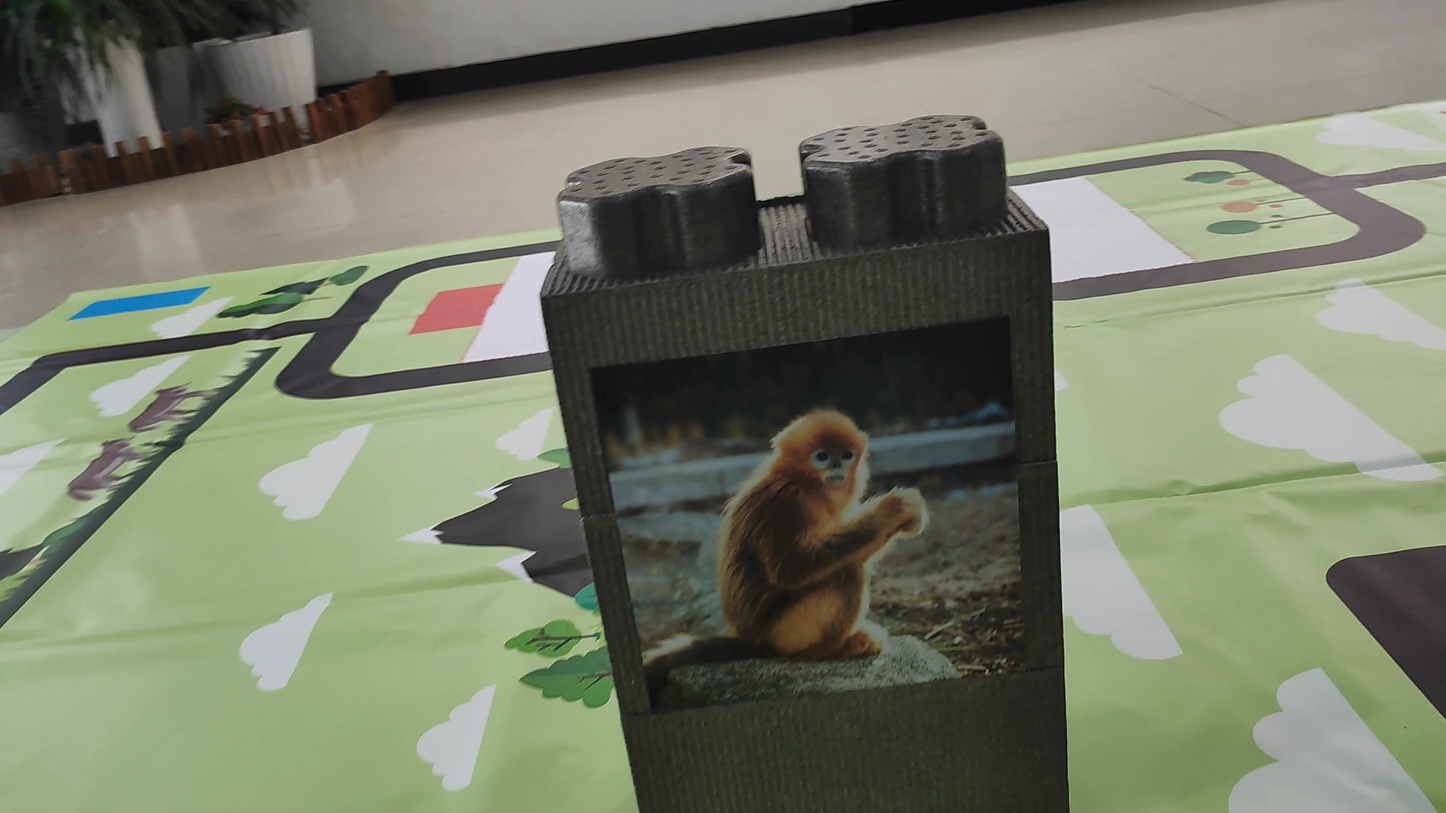monkey: (684, 393, 970, 685)
